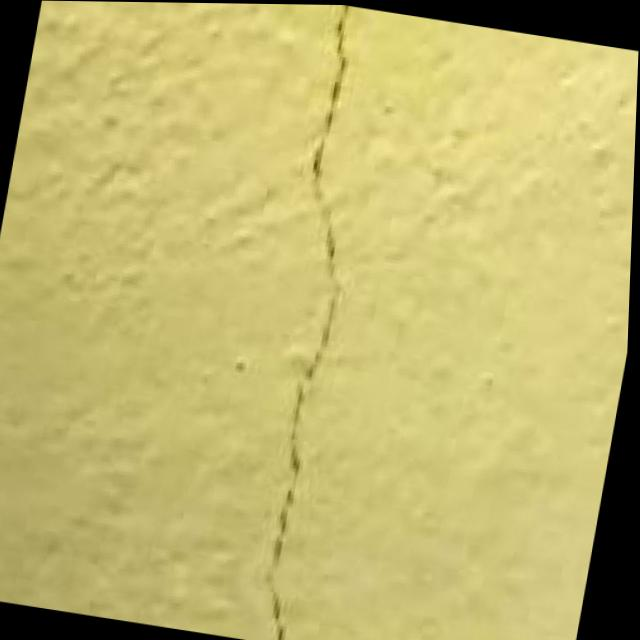Crack: (189, 2, 434, 640)
